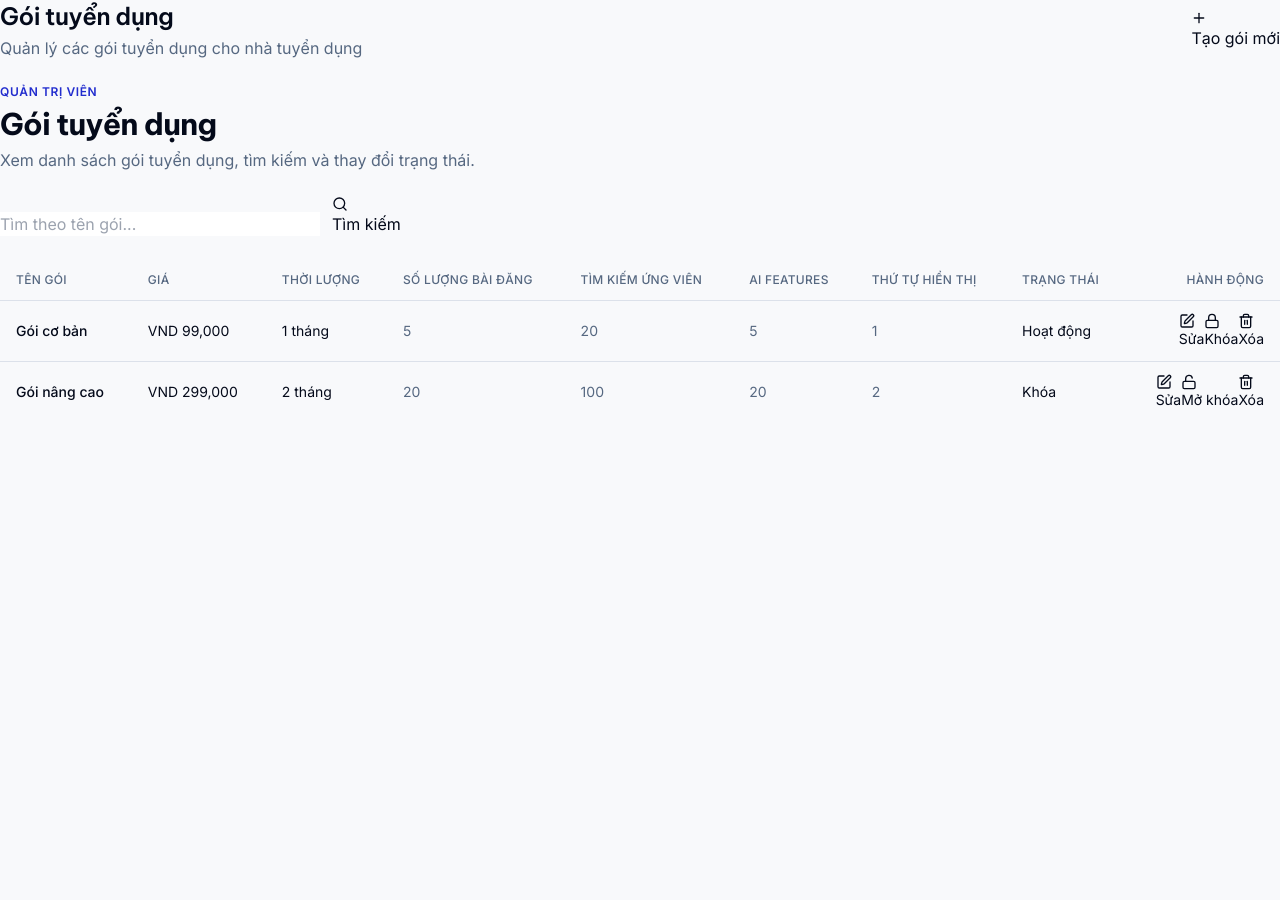
AdminPlansPage › Plan deletion › opens delete confirmation modal with correct plan name
Expected: the text "Gói cơ bản" is shown, [16, 322, 88, 339]
Note: Click delete button on first plan
Step 1. Click the button with aria-label "xóa gói gói cơ bản" → (1251, 331), box [1238, 313, 1264, 349]
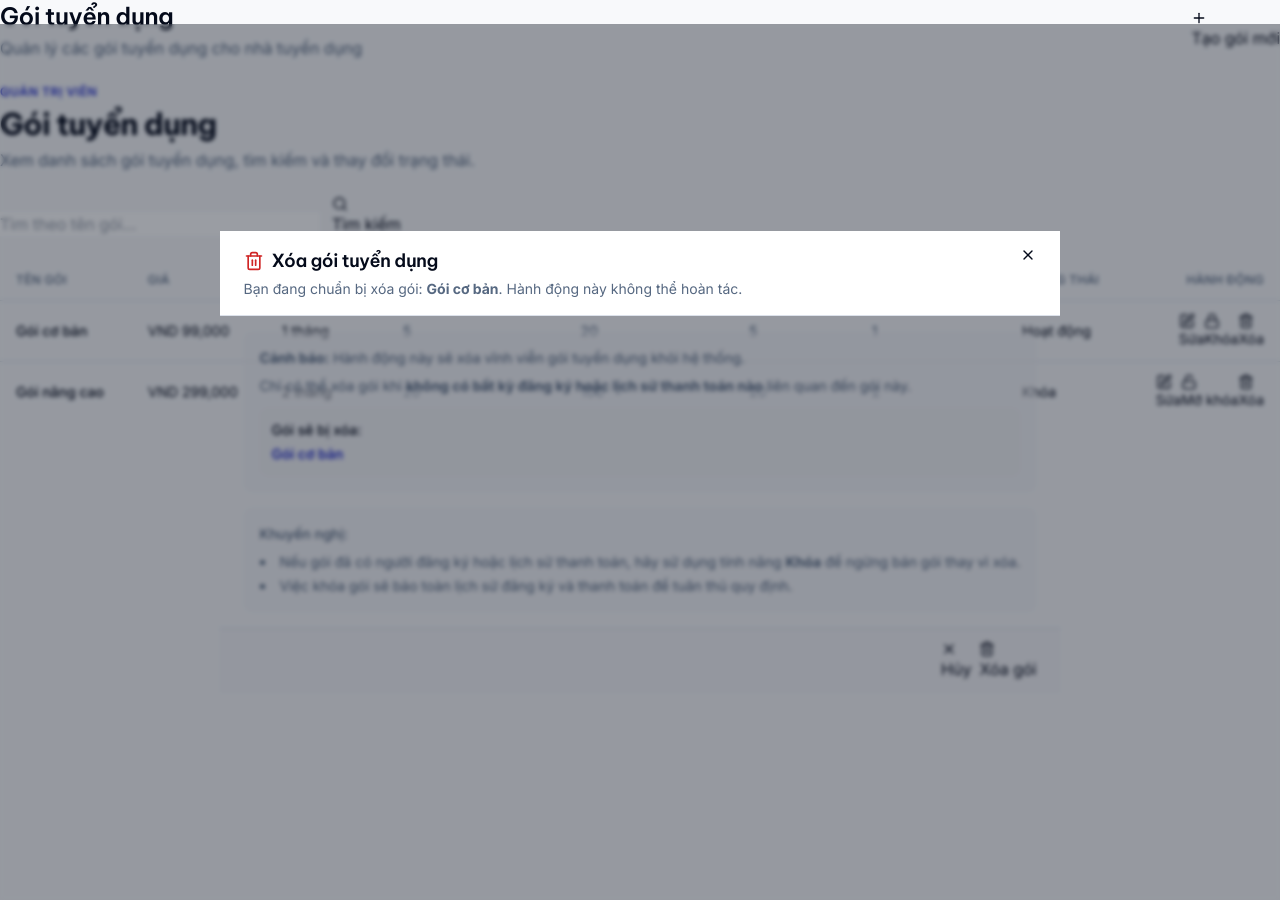
Expected: the dialog is shown
Expected: the dialog shows "Xóa gói tuyển dụng", [272, 249, 438, 272]
Expected: the dialog shows "Gói cơ bản", [426, 280, 498, 297]
